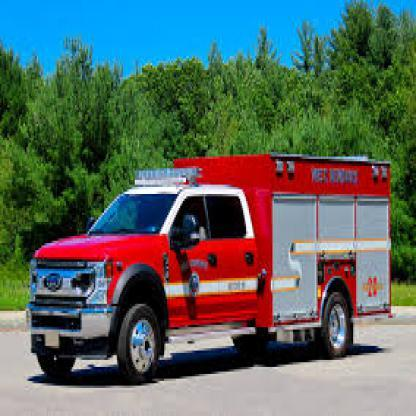fire-truck: (22, 81, 416, 408)
